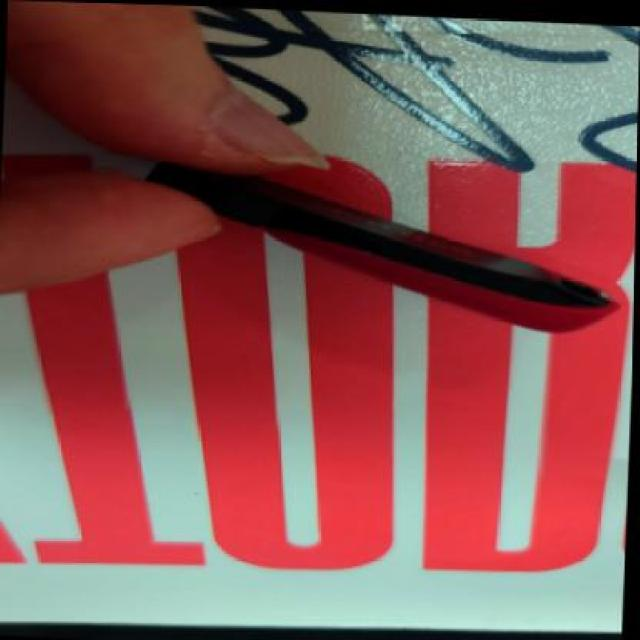Flashdisk: (137, 155, 623, 334)
